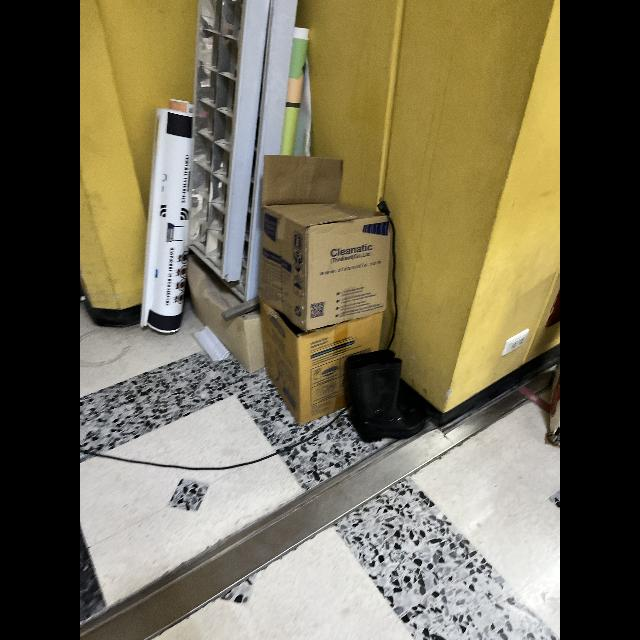cardboard_box: (254, 148, 401, 332), (260, 302, 386, 428), (182, 262, 268, 370)
